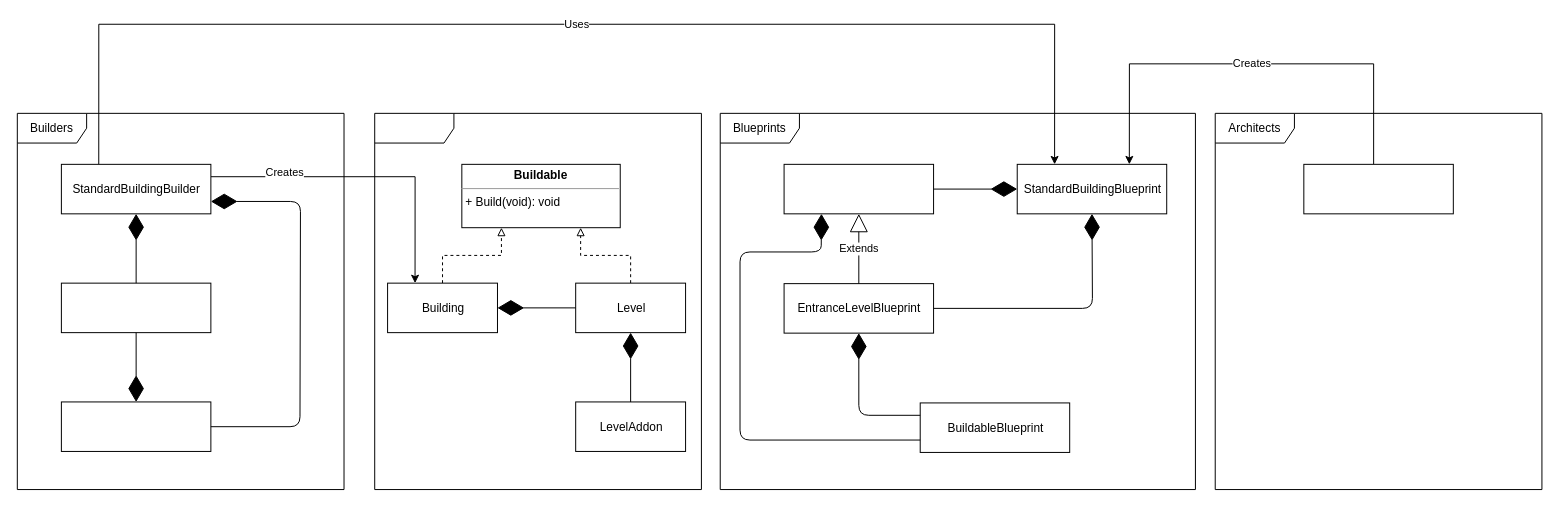
Image size: 1559x507. Some labels were removed from this diagram. The box of each missing label's shape, as (x1, y1, x2, y2) in pixels:
Buildables: (374, 112, 701, 490)
CommandLineArchitect: (1303, 163, 1453, 214)
EntranceLevelBuilder: (60, 401, 211, 451)
LevelBlueprint: (783, 163, 934, 214)
LevelBuilder: (60, 282, 211, 333)
